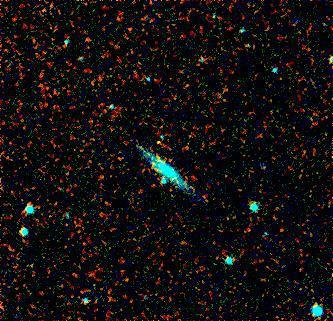star: (138, 130, 168, 160)
